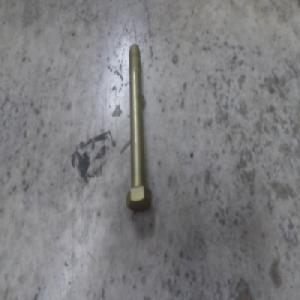Bolt: (125, 43, 151, 206)
